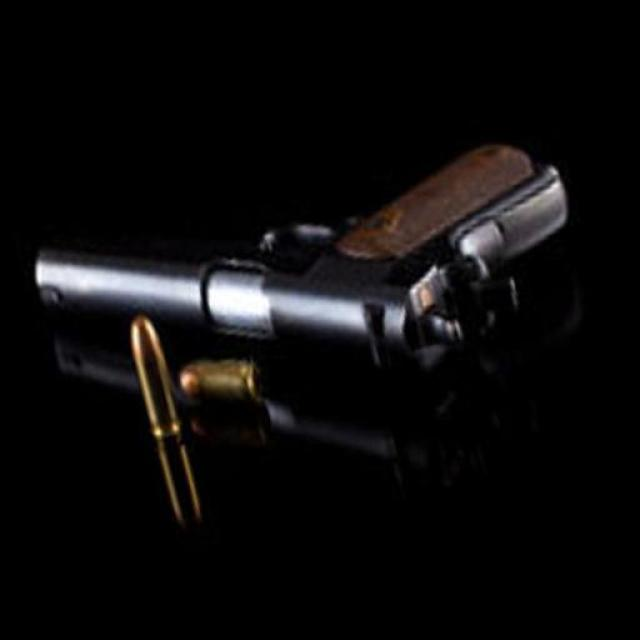gun: (22, 118, 604, 462)
